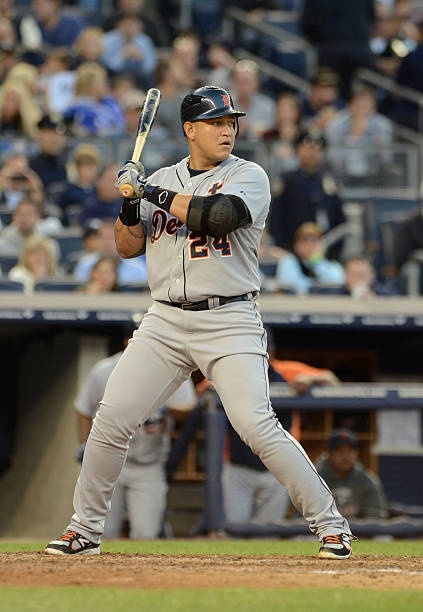bita: (122, 86, 165, 191)
